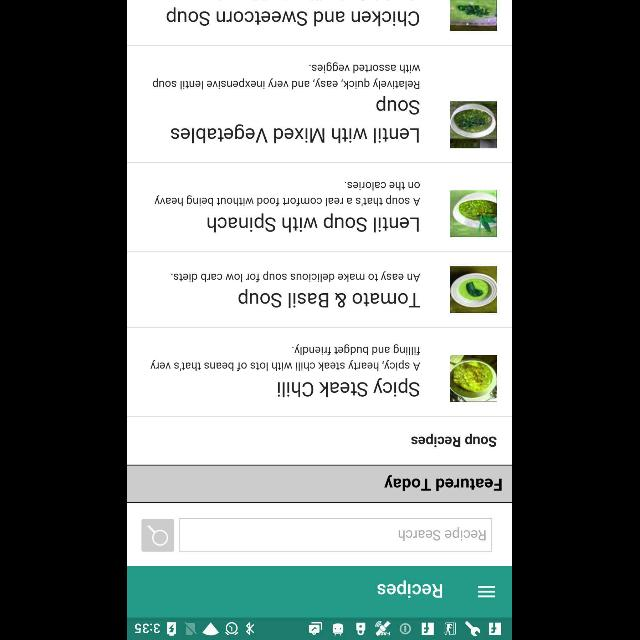icon: (142, 519, 174, 551), (478, 585, 496, 597)
image: (450, 190, 498, 238), (450, 354, 498, 402), (450, 102, 498, 148), (450, 266, 498, 312), (450, 1, 498, 32)
input: (180, 518, 492, 552)
text: (172, 96, 420, 144), (151, 344, 421, 372), (154, 62, 420, 90), (155, 182, 421, 206), (168, 7, 420, 27), (208, 213, 420, 233), (239, 288, 421, 308), (172, 270, 420, 282), (278, 378, 420, 398), (385, 474, 503, 492), (399, 527, 486, 541), (412, 433, 498, 447), (378, 580, 444, 598)
toolbar: (128, 566, 512, 616)
uppertaskbar: (128, 617, 512, 639)
